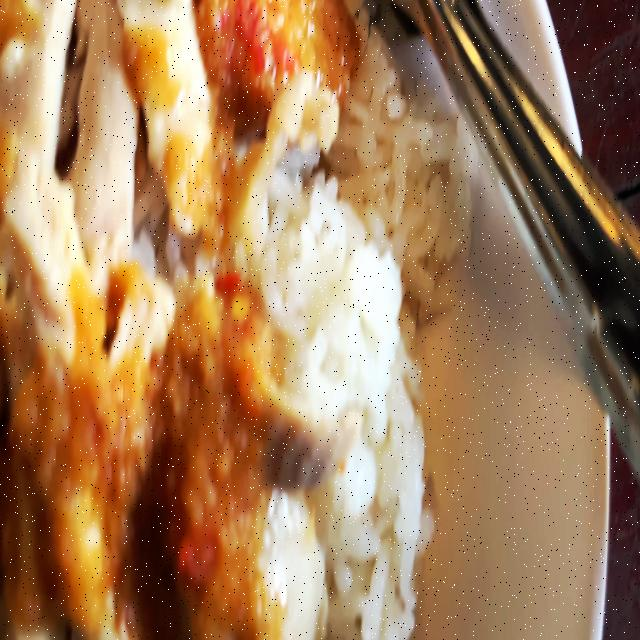boiled_chicken: (0, 0, 340, 640)
chicken_rice: (0, 0, 480, 640)
